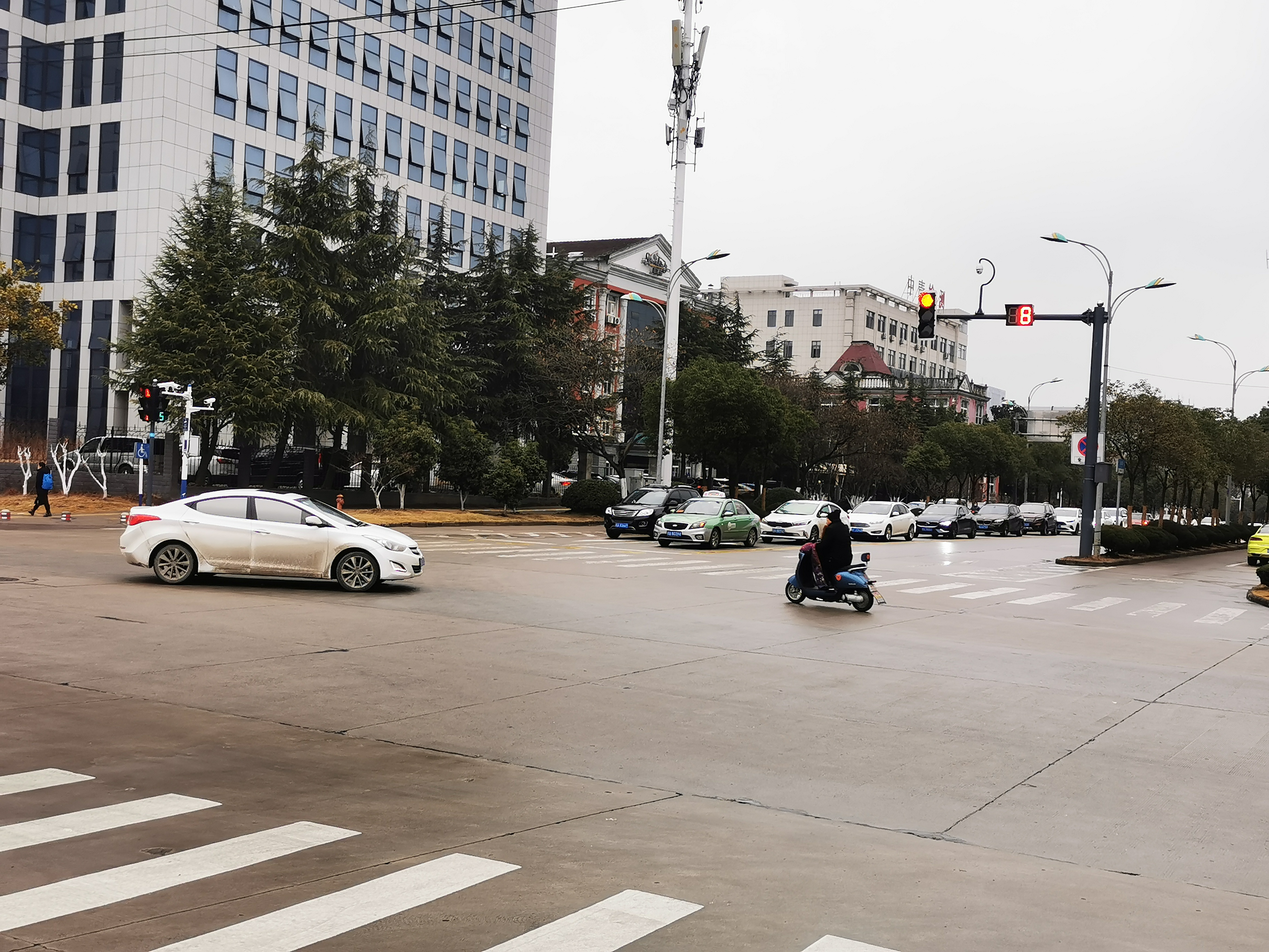Car: (121, 486, 419, 590)
